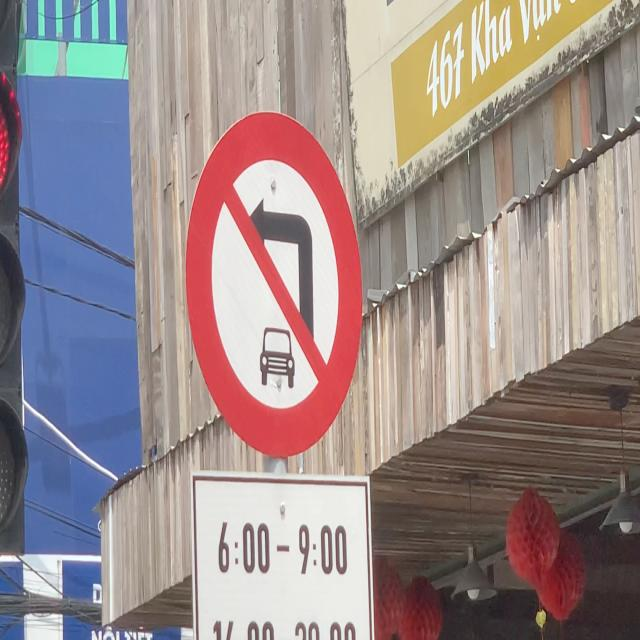Cam re trai: (184, 110, 364, 460)
